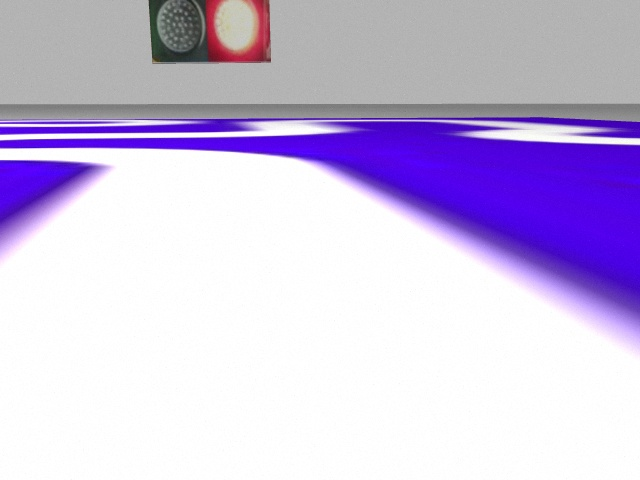red: (207, 2, 272, 61)
